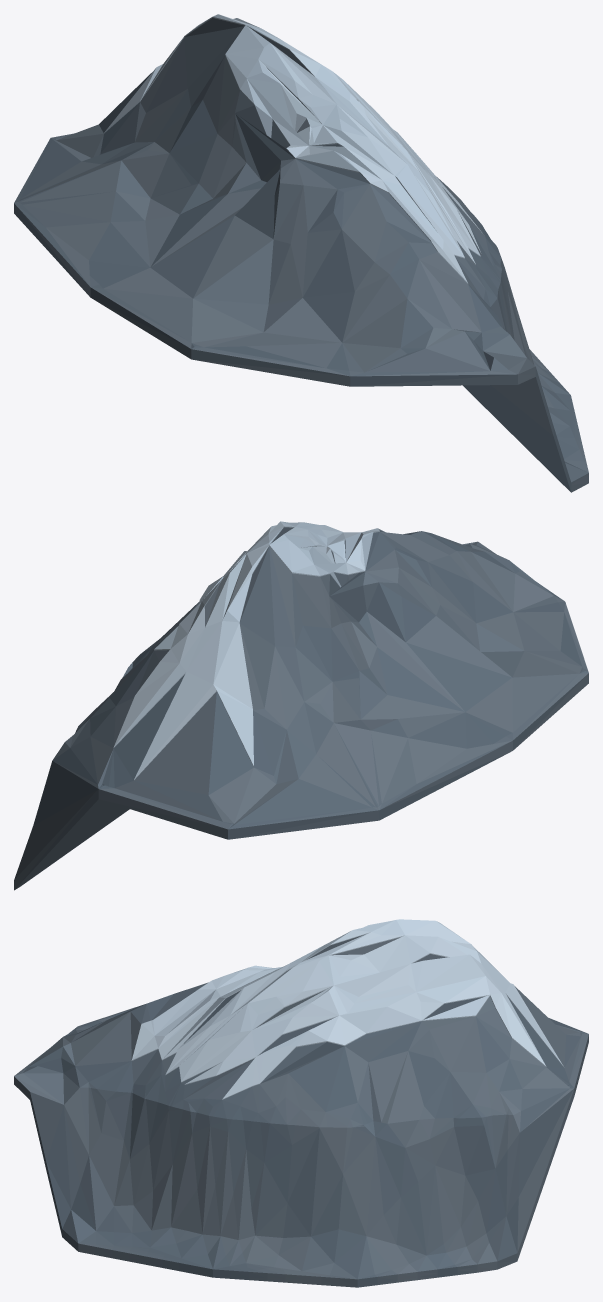
File: massif_cirque_wall_cirque54v2.glb
3 views of the same model, one above another, from view 1: azimuth 30°, elevation 25°; view 2: azimuth 150°, elevation 25°; view 3: azimuth 270°, elevation 25° (orthographic). The views are drawn at different scales.
Parts seen in each view (by area): view 1: remodeled_cirque_body, snow_gully_b, snow_gully_a, upper_snow_basin, north_snow_patch; view 2: remodeled_cirque_body, north_snow_patch, snow_gully_a, snow_gully_b, upper_snow_basin; view 3: remodeled_cirque_body, snow_gully_a, snow_gully_b, north_snow_patch, upper_snow_basin.
Part boxes in pixels (bbox=[...]): remodeled_cirque_body: bbox=[14, 18, 588, 492]; snow_gully_b: bbox=[225, 43, 468, 283]; snow_gully_a: bbox=[184, 15, 485, 264]; upper_snow_basin: bbox=[212, 14, 289, 57]; north_snow_patch: bbox=[104, 36, 184, 133]; remodeled_cirque_body: bbox=[14, 527, 588, 890]; north_snow_patch: bbox=[113, 622, 253, 779]; snow_gully_a: bbox=[171, 521, 301, 684]; snow_gully_b: bbox=[280, 521, 385, 587]; upper_snow_basin: bbox=[154, 527, 295, 650]; remodeled_cirque_body: bbox=[14, 934, 588, 1287]; snow_gully_a: bbox=[165, 919, 510, 1099]; snow_gully_b: bbox=[131, 931, 350, 1060]; north_snow_patch: bbox=[490, 983, 564, 1067]; upper_snow_basin: bbox=[354, 920, 490, 1020].
Size of the model in its own units: 454 by 346 by 651.
